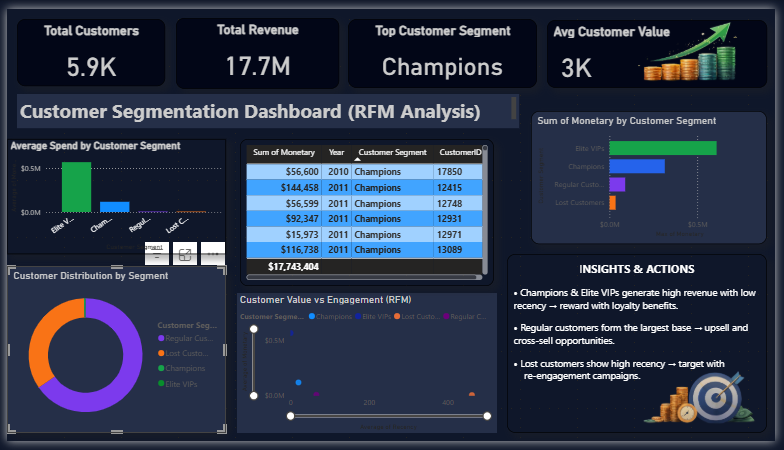

Layout of this report page (visuals, bound fields, positions):
{"tool":"powerbi","page":{"name":"Page 1","canvas":[1280,720],"ordinal":0},"visuals":[{"type":"cardVisual","title":"Total Customers","fields":{"Data":["CountNonNull(customer_segments_final.CustomerID)"]},"box":[16.7,16.7,246.7,111.7],"z":0},{"type":"cardVisual","title":"Total Revenue","fields":{"Data":["Sum(customer_segments_final.Monetary)"]},"box":[281.7,15,271.7,118.3],"z":1000},{"type":"cardVisual","title":"Top Customer Segment","fields":{"Data":["Min(customer_segments_final.Custermer Segment)"]},"box":[568.3,16.7,315,115],"z":2000},{"type":"textbox","box":[16.7,141.7,836.7,56.7],"z":3000},{"type":"cardVisual","title":"Avg Customer Value","fields":{"Data":["Avg(customer_segments_final.Monetary)"]},"box":[900,18.3,366.7,113.3],"z":4000},{"type":"clusteredBarChart","title":"Sum of Monetary by Customer Segment","fields":{"Category":["customer_segments_final.Custermer Segment"],"Y":["Max(customer_segments_final.Monetary)"]},"box":[868.3,170,393.3,221.7],"z":5000},{"type":"donutChart","title":"Customer Distribution by Segment","fields":{"Category":["customer_segments_final.Custermer Segment"],"Y":["CountNonNull(customer_segments_final.CustomerID)"]},"box":[0,428.3,365,278.3],"z":6000},{"type":"scatterChart","title":"Customer Value vs Engagement (RFM)","fields":{"X":["Avg(customer_segments_final.Recency)"],"Y":["Avg(customer_segments_final.Monetary)"],"Series":["customer_segments_final.Custermer Segment"]},"box":[383.3,473.3,431.7,233.3],"z":7000},{"type":"tableEx","fields":{"Values":["Sum(customer_segments_final.Monetary)","customer_segments_final.LastDate.Variation.Date Hierarchy.Year","customer_segments_final.Customer Segment","customer_segments_final.CustomerID"]},"box":[388.3,216.7,423.3,245],"z":8000},{"type":"clusteredColumnChart","title":"Average Spend by Customer Segment","fields":{"Category":["customer_segments_final.Customer Segment"],"Y":["Avg(customer_segments_final.Monetary)"]},"box":[0,216.7,365,191.7],"z":9000},{"type":"textbox","box":[833.3,408.3,433.3,298.3],"z":10000},{"type":"image","box":[1003.3,0,276.7,131.7],"z":11000},{"type":"image","box":[1041.7,590,238.3,130],"z":12000}]}

Visuals, with their boxes in screenshot pixels (x1, y1, x2, y2), scaled from the page's 1280x720 canvas onto the 784x450 screenshot:
"Total Customers" cardVisual: region(10, 10, 161, 80)
"Total Revenue" cardVisual: region(173, 9, 339, 83)
"Top Customer Segment" cardVisual: region(348, 10, 541, 82)
textbox: region(10, 89, 523, 124)
"Avg Customer Value" cardVisual: region(551, 11, 776, 82)
"Sum of Monetary by Customer Segment" clusteredBarChart: region(532, 106, 773, 245)
"Customer Distribution by Segment" donutChart: region(0, 268, 224, 442)
"Customer Value vs Engagement (RFM)" scatterChart: region(235, 296, 499, 442)
tableEx - Sum(customer_segments_final.Monetary) x customer_segments_final.LastDate.Variation.Date Hierarchy.Year: region(238, 135, 497, 289)
"Average Spend by Customer Segment" clusteredColumnChart: region(0, 135, 224, 255)
textbox: region(510, 255, 776, 442)
image: region(615, 0, 783, 82)
image: region(638, 369, 783, 449)
